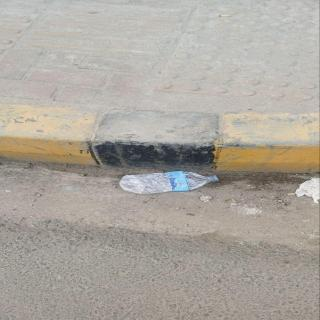Plastic-bottle: (117, 168, 225, 196)
